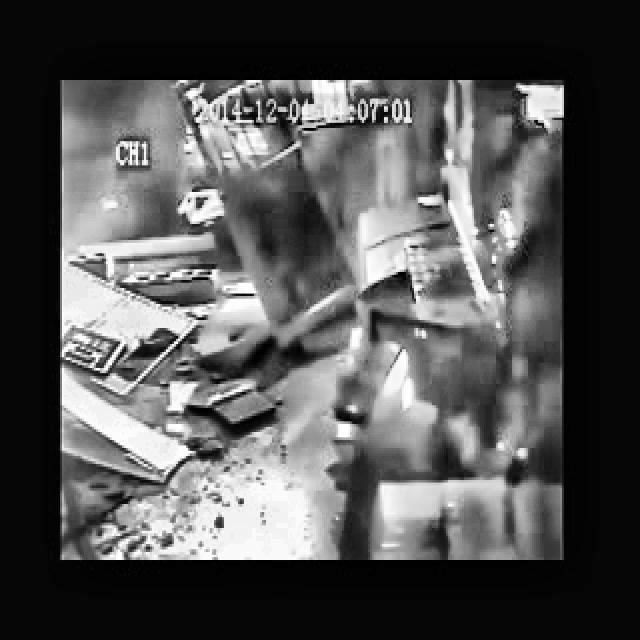burglary: (169, 81, 402, 389)
